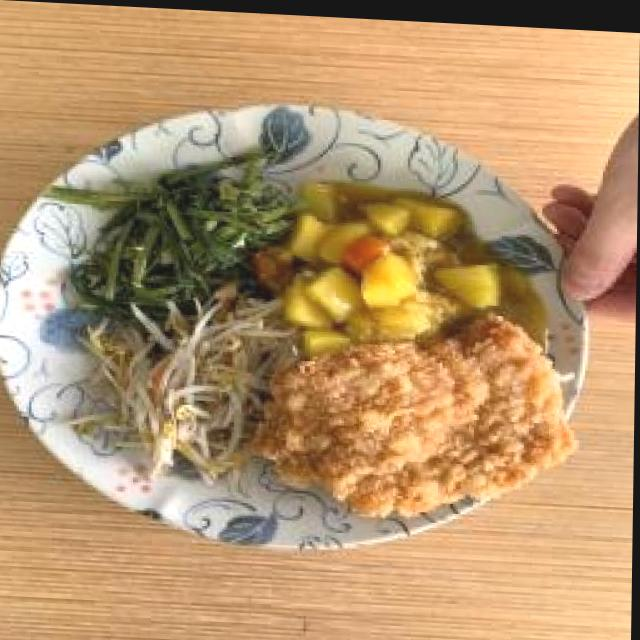curry: (296, 200, 501, 323)
fried_chicken: (292, 332, 564, 498)
mung_bean_sprouts: (113, 318, 267, 449)
water_spinach: (100, 174, 274, 289)
